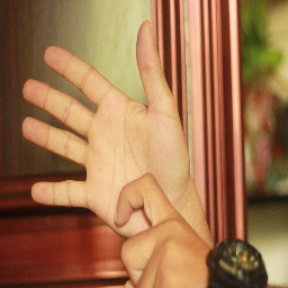R: (21, 18, 206, 288)
